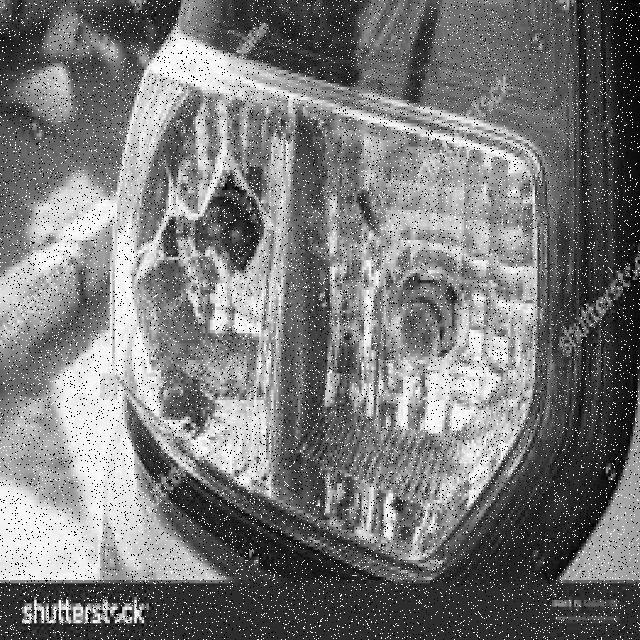Taillight-Damage: (98, 34, 550, 567)
